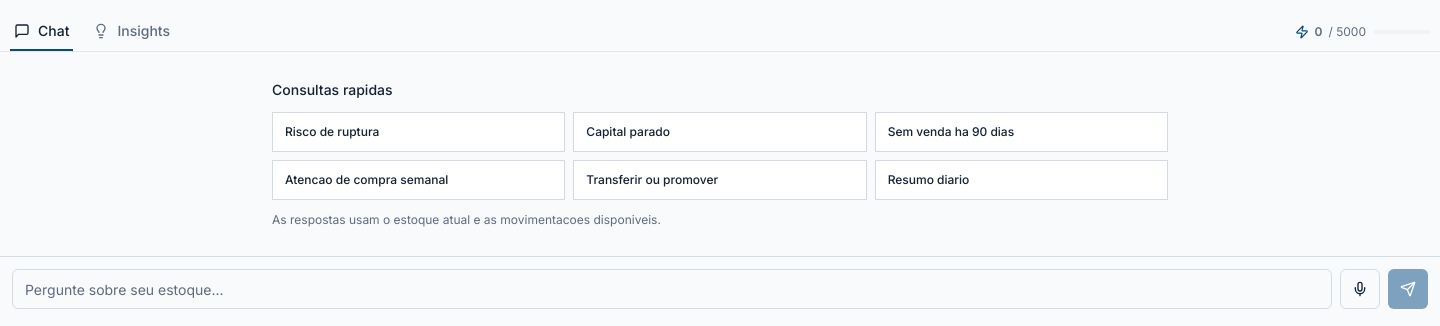
Test: EstoqueAssistantTab › trata ultima venda ausente como desconhecida no contexto
Type "Analise" into the field with placeholder "Pergunte sobre seu estoque..." at (672, 289), box 12,269 -> 1332,309
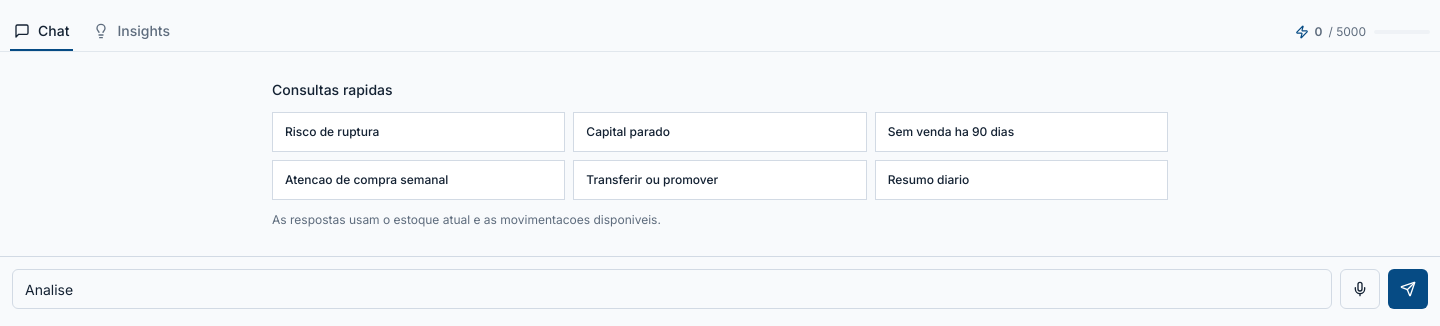
Click the button named "Enviar pergunta" at (1408, 289), box 1388,269 -> 1428,309
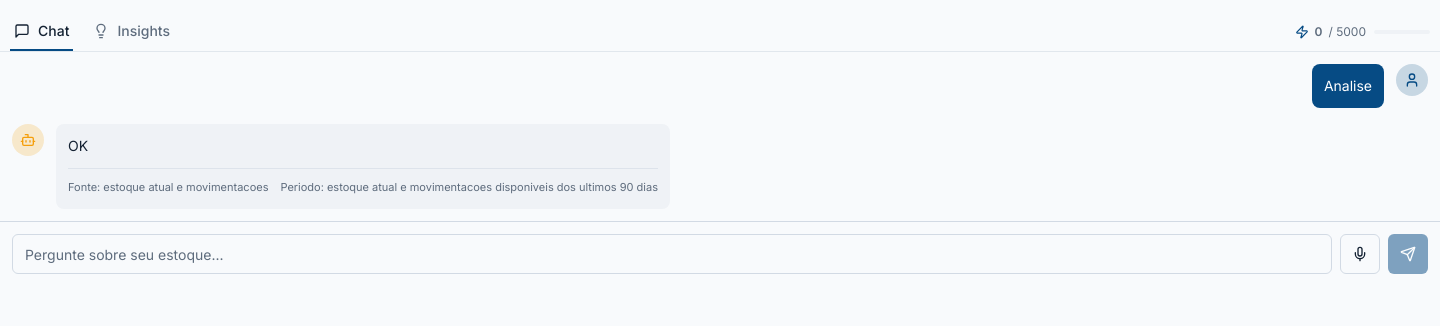
Now the text "OK" is shown, box 68,137 -> 88,154
